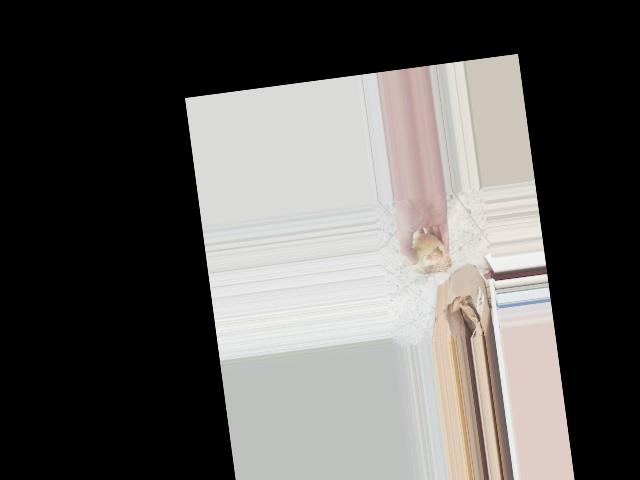onion: (398, 226, 454, 282)
